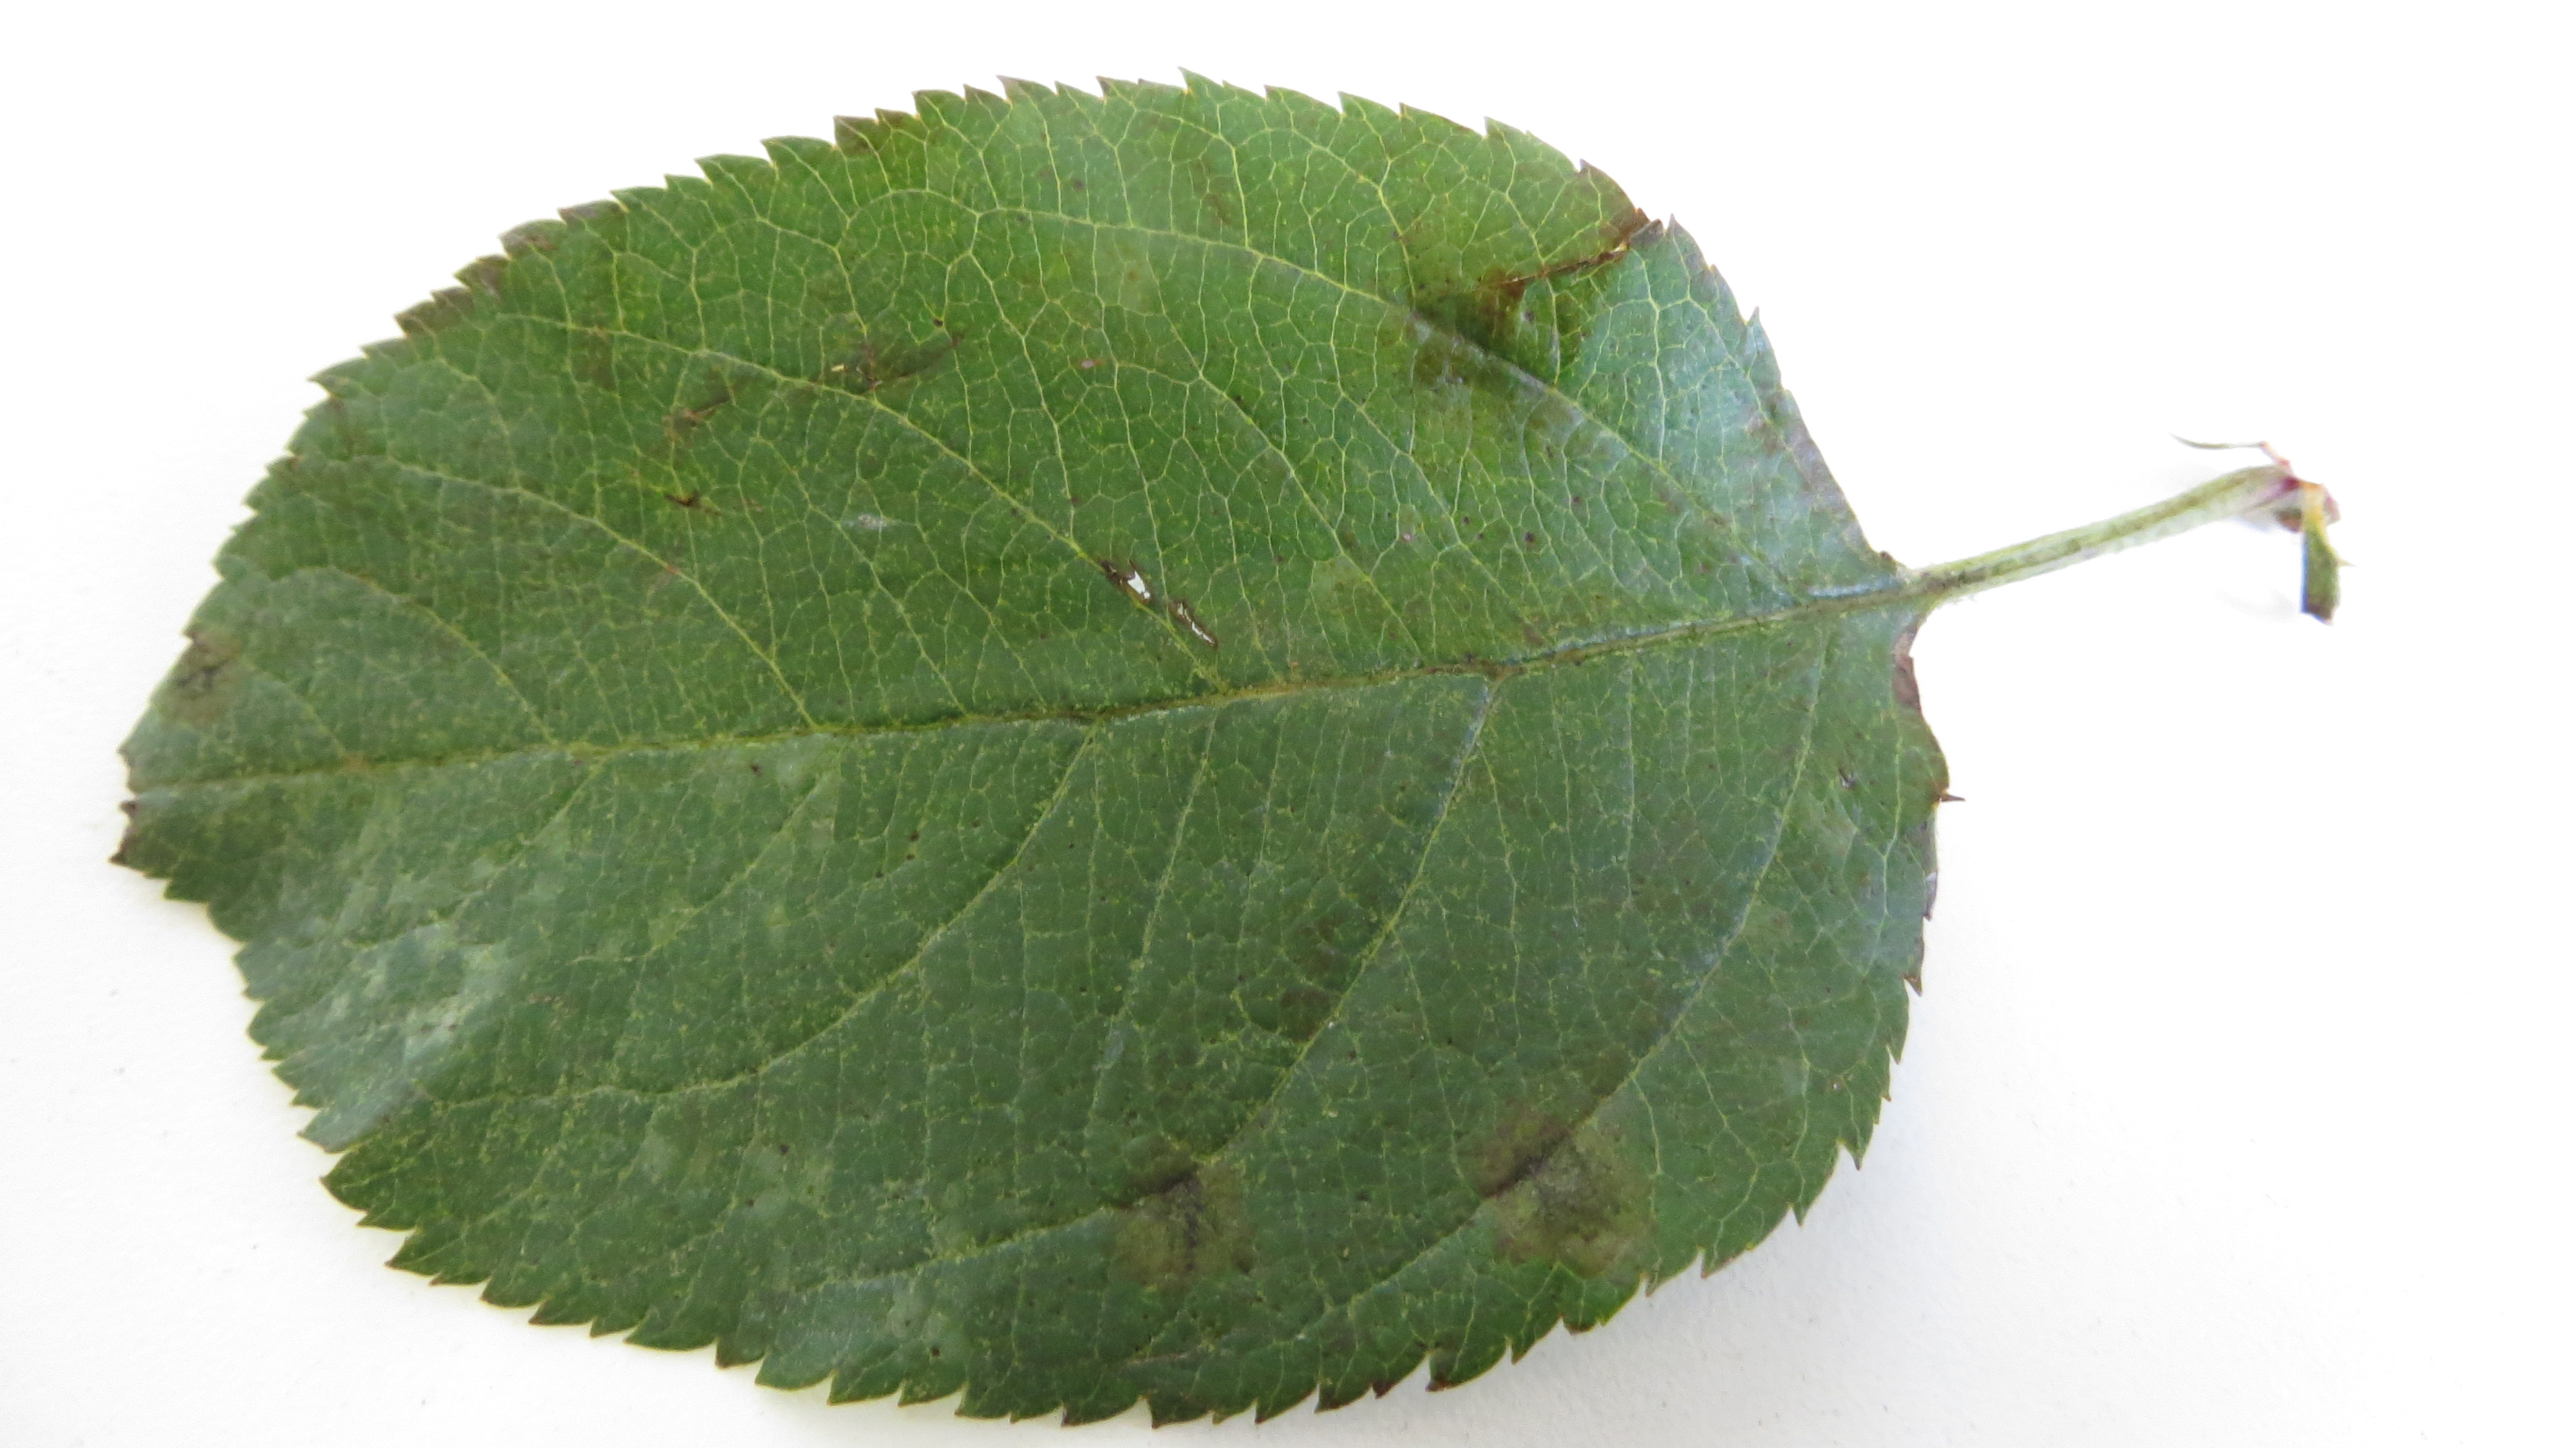sarna: (1375, 223, 1619, 457), (1458, 1090, 1652, 1283), (1090, 1126, 1272, 1313), (817, 299, 985, 425), (145, 605, 246, 724)
